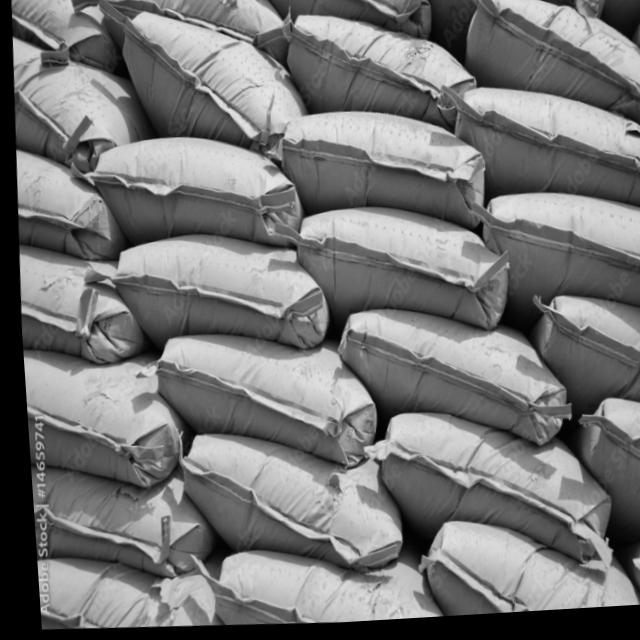sack: (351, 403, 611, 582), (327, 301, 567, 462), (169, 424, 399, 584), (145, 324, 375, 481), (91, 0, 308, 162), (62, 128, 303, 262), (288, 201, 509, 344), (260, 106, 486, 243), (102, 227, 328, 362), (436, 81, 640, 227), (280, 7, 478, 139), (18, 341, 183, 496), (405, 515, 640, 622), (462, 188, 640, 327), (24, 454, 208, 585), (455, 0, 640, 127), (199, 542, 437, 632), (7, 31, 146, 177), (13, 237, 143, 369), (29, 550, 208, 635), (522, 295, 640, 414), (11, 145, 121, 265), (565, 400, 640, 548), (9, 0, 103, 57)
